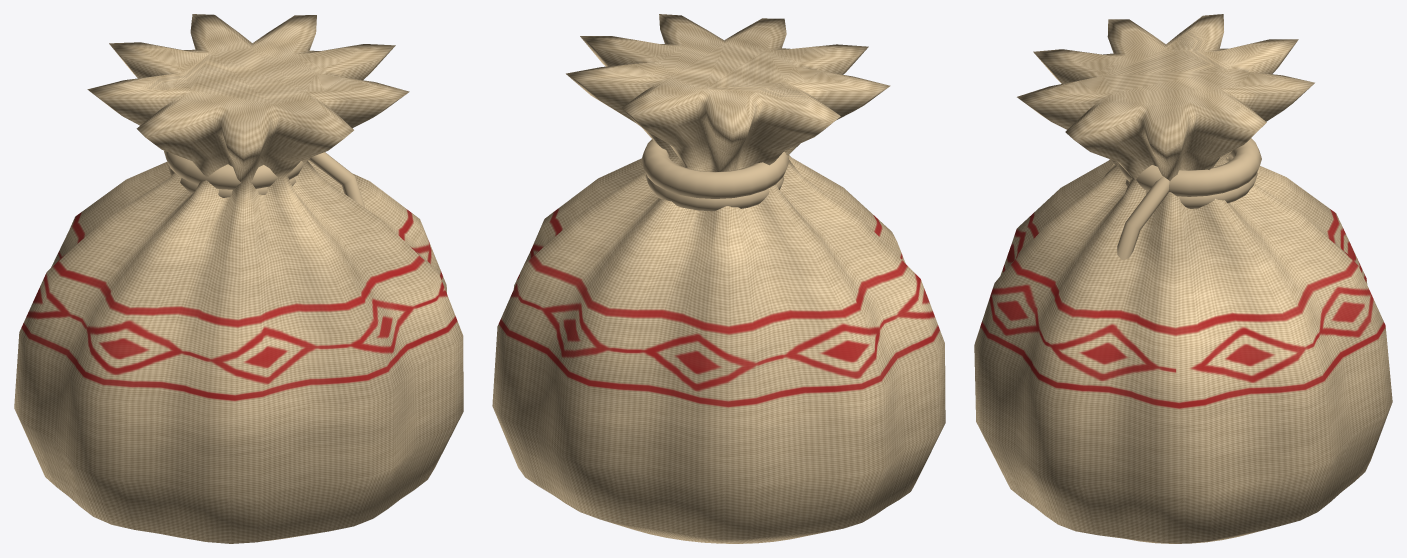
Rendered from CHO_IngredientSack.fbx.
The picture shows the model from 3 angles, left to right: view 1: azimuth 30°, elevation 25°; view 2: azimuth 150°, elevation 25°; view 3: azimuth 270°, elevation 25°; orthographic projection. The views are drawn at different scales.
Parts seen in each view (by area): view 1: CHO_IngredientSack; view 2: CHO_IngredientSack; view 3: CHO_IngredientSack.
Part boxes in pixels (box(x1,y1,x2,y2)): CHO_IngredientSack: box(14, 14, 463, 543); CHO_IngredientSack: box(492, 14, 945, 543); CHO_IngredientSack: box(974, 14, 1392, 543).
Bounding box in the file's own units: 0.9556 × 0.9853 × 0.8917.
